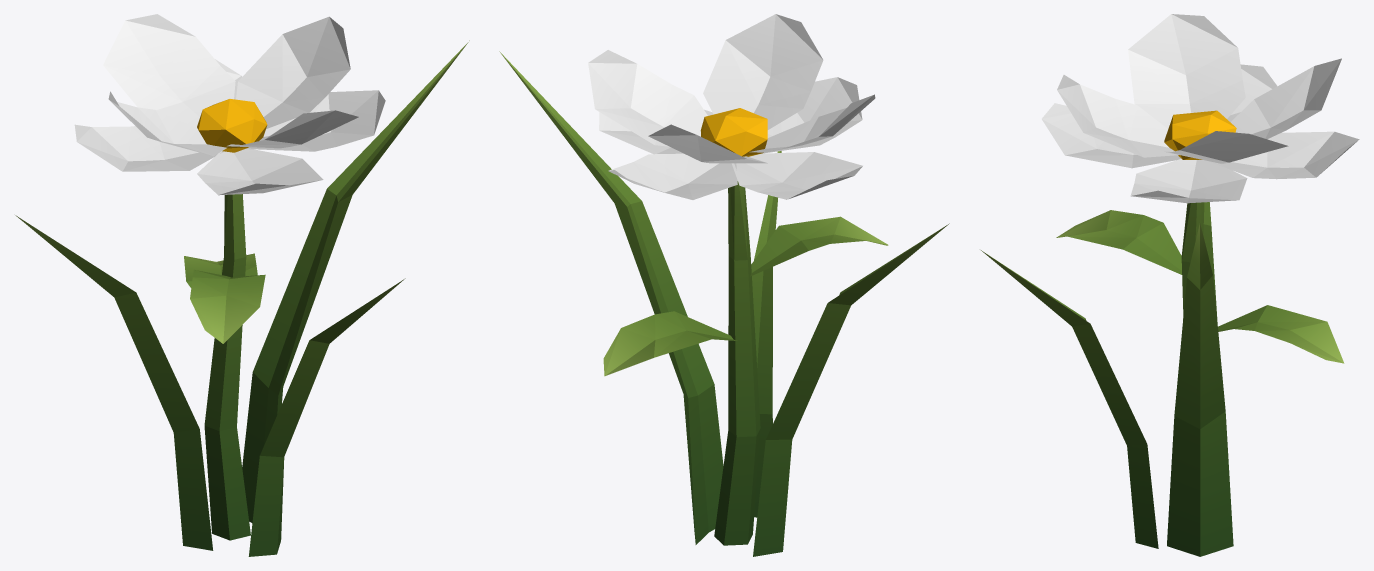
Rendered from Mesh_Nature_Flower_04.FBX.
3 views of the same model, side by side, from view 1: azimuth 30°, elevation 25°; view 2: azimuth 150°, elevation 25°; view 3: azimuth 270°, elevation 25° (orthographic).
Parts seen in each view (by area): view 1: Mesh_Nature_Flower_04; view 2: Mesh_Nature_Flower_04; view 3: Mesh_Nature_Flower_04.
Part boxes in pixels (x1,y1,x2,y2): Mesh_Nature_Flower_04: (15, 14, 469, 556); Mesh_Nature_Flower_04: (499, 14, 949, 556); Mesh_Nature_Flower_04: (981, 14, 1359, 556).
Size of what is drawn, in the model's own units: 44.1 by 32.34 by 43.54.
